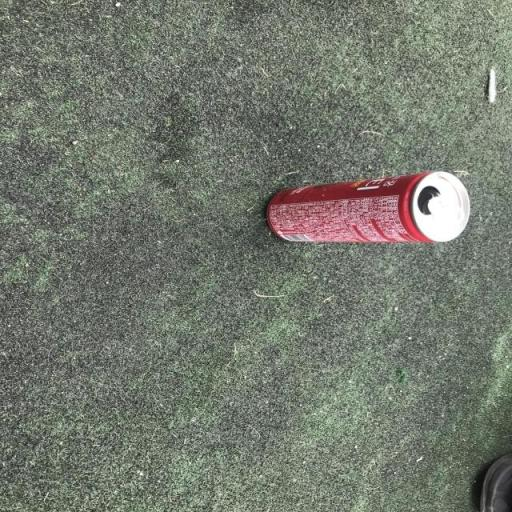metal: (199, 160, 511, 281)
